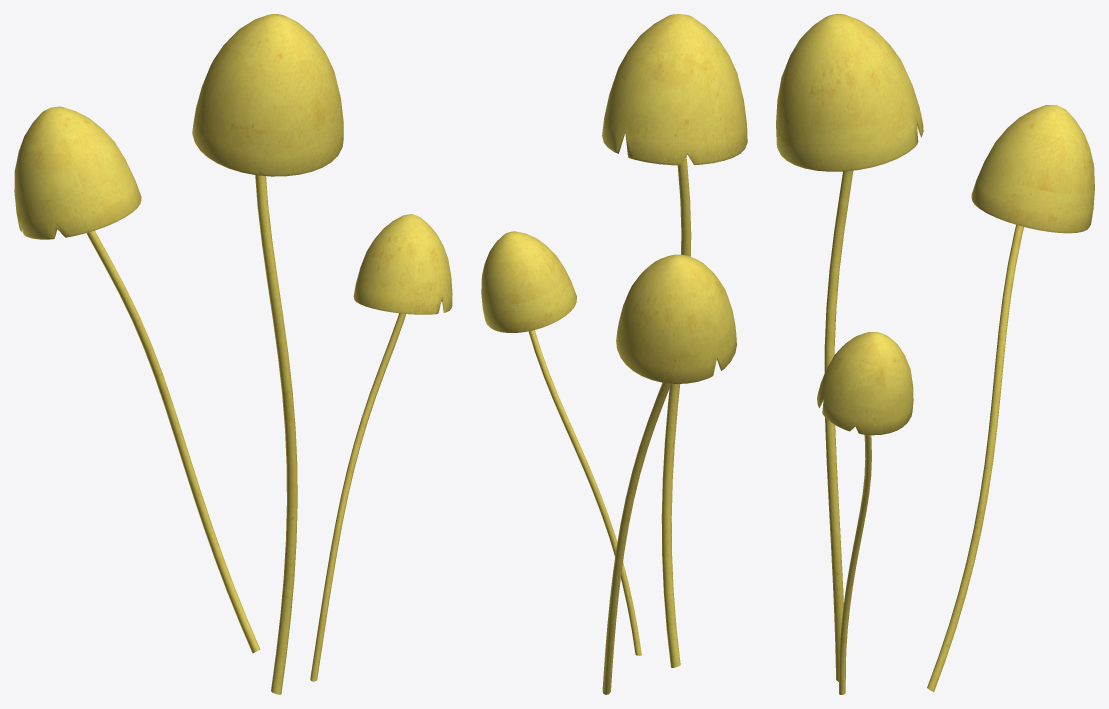
Rendered from Shrooms_05.fbx.
3 renders of one model, left to right at view 1: azimuth 30°, elevation 25°; view 2: azimuth 150°, elevation 25°; view 3: azimuth 270°, elevation 25°, orthographic. The views are drawn at different scales.
Parts seen in each view (by area): view 1: Shrooms.005; view 2: Shrooms.005; view 3: Shrooms.005.
Part boxes in pixels (bbox=[...]): Shrooms.005: bbox=[14, 14, 452, 694]; Shrooms.005: bbox=[481, 14, 747, 694]; Shrooms.005: bbox=[776, 14, 1094, 694].
Bounding box in the file's own units: 5.11 × 4.3 × 9.88.
